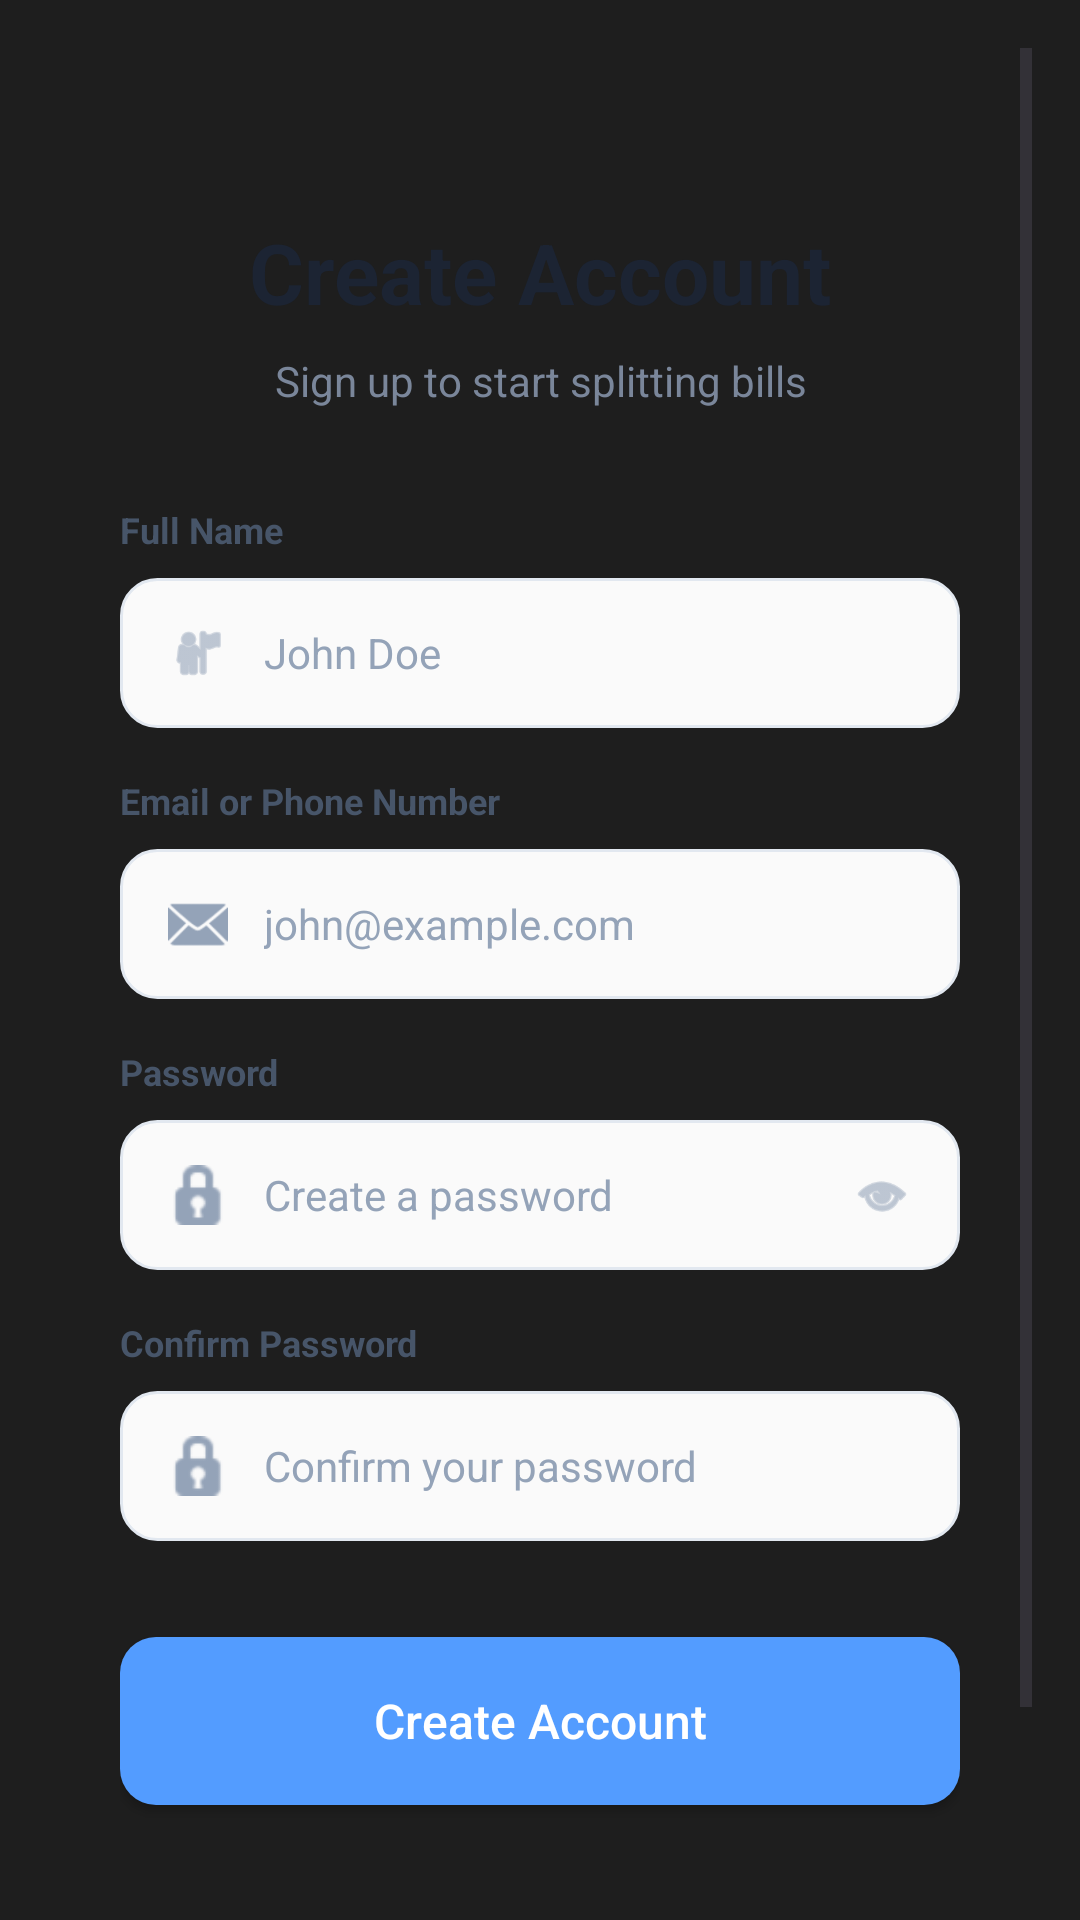

Named icons in this screenshot (1080 x 1920) and their bounding boxes, box(x1, y1, x2, y2):
secure: box(175, 1165, 221, 1225), box(175, 1436, 221, 1496)
view: box(858, 1181, 906, 1212)
